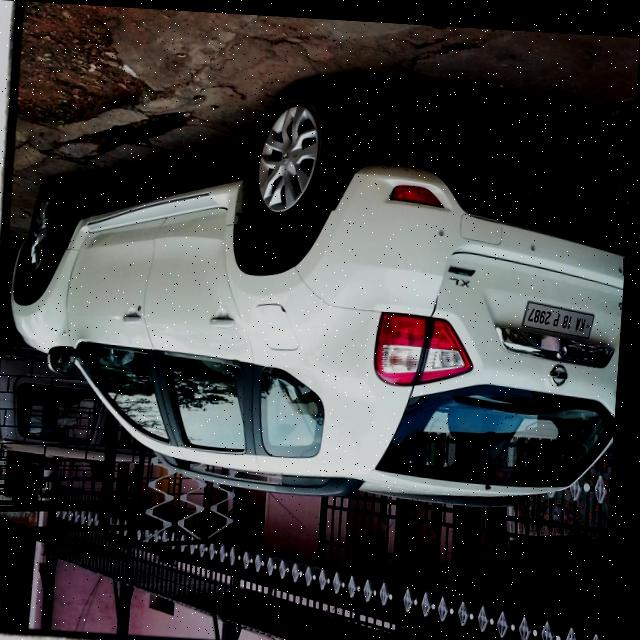plate: (526, 286, 598, 336)
